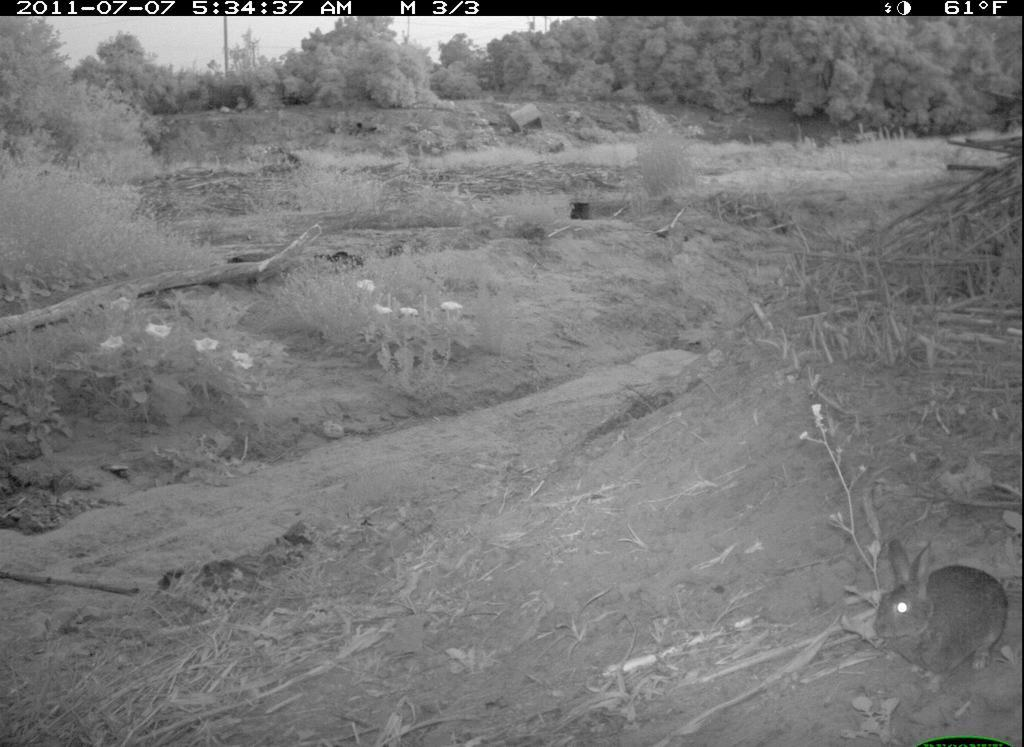rabbit: (862, 527, 1017, 702)
